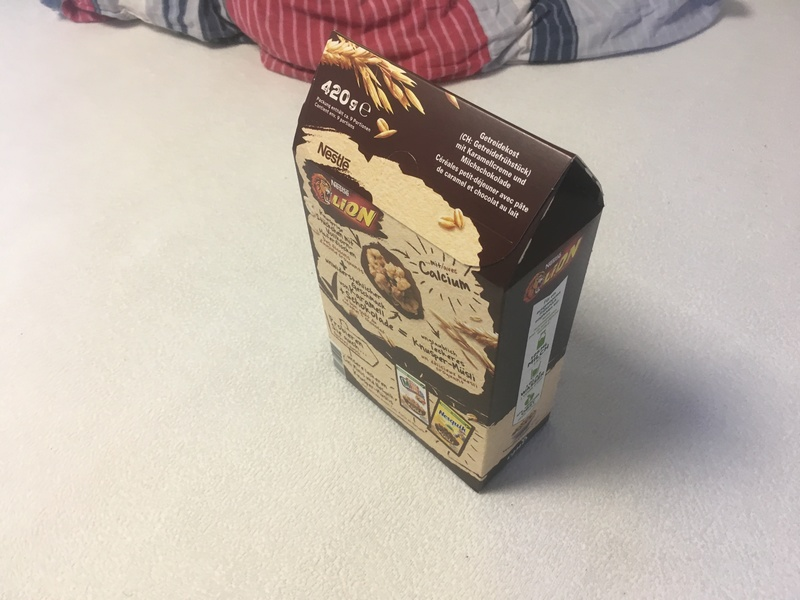cereals: (292, 32, 606, 494)
